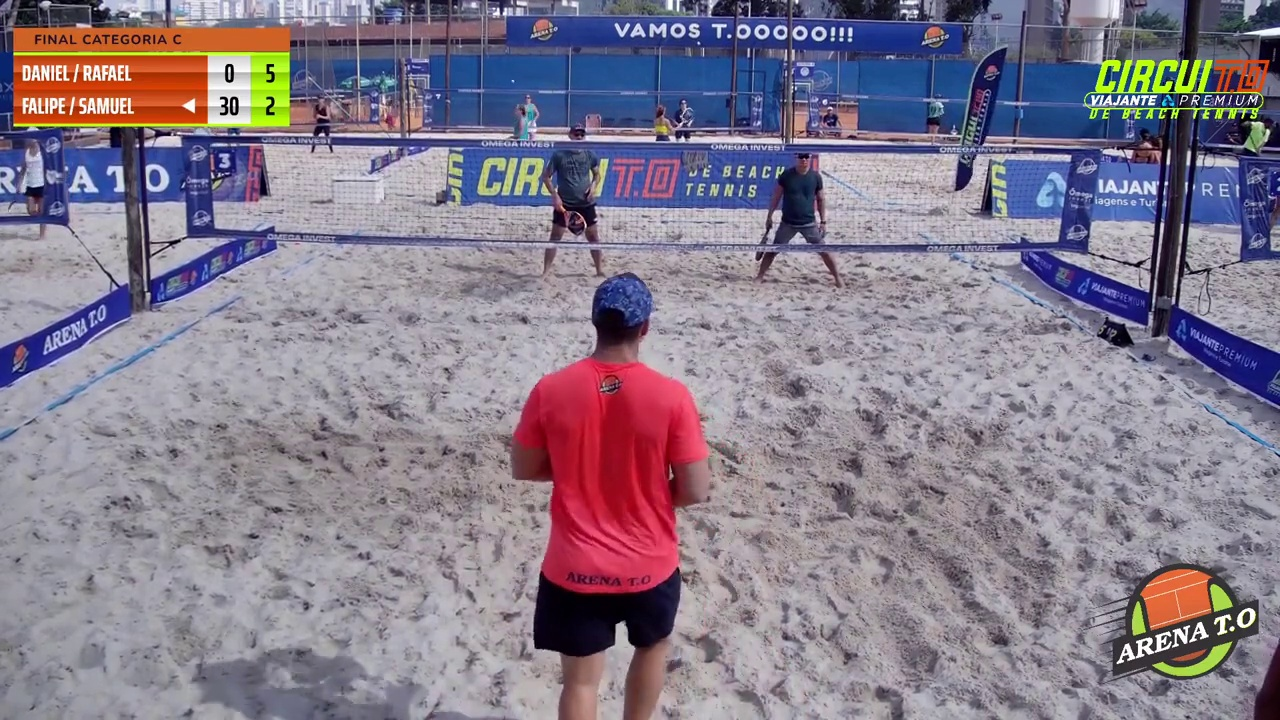court_line: (609, 0, 802, 460), (524, 0, 674, 501)
